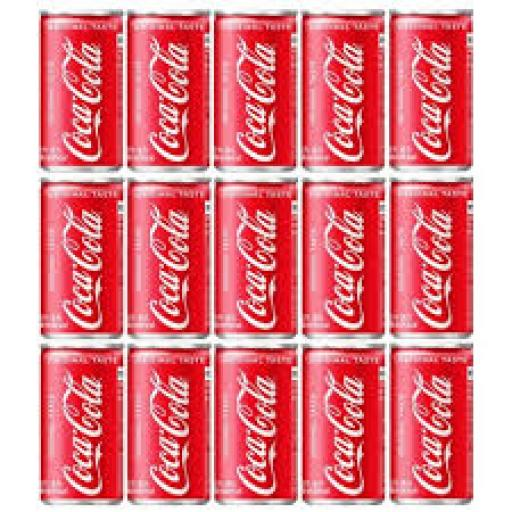Coca: (32, 4, 126, 174), (36, 339, 126, 507), (299, 341, 388, 509), (126, 4, 213, 175), (386, 6, 474, 174), (214, 6, 302, 173), (388, 178, 479, 339), (386, 341, 474, 507), (125, 179, 214, 342), (300, 2, 384, 173), (299, 179, 387, 341), (126, 346, 212, 510), (212, 342, 298, 506), (35, 176, 122, 338), (217, 177, 299, 343)
